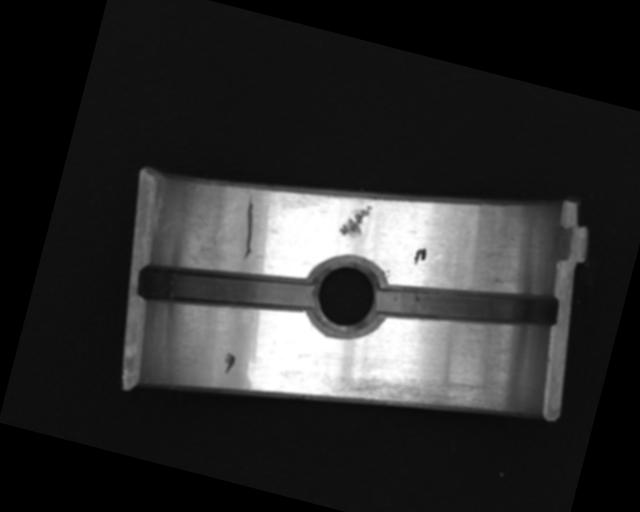blot: (410, 244, 430, 269)
bruise: (338, 199, 373, 241), (221, 351, 237, 375)
gap: (372, 255, 560, 357), (137, 238, 317, 338)
hole: (299, 251, 391, 345)
nick: (233, 193, 265, 260)
scratch: (328, 349, 486, 434)
